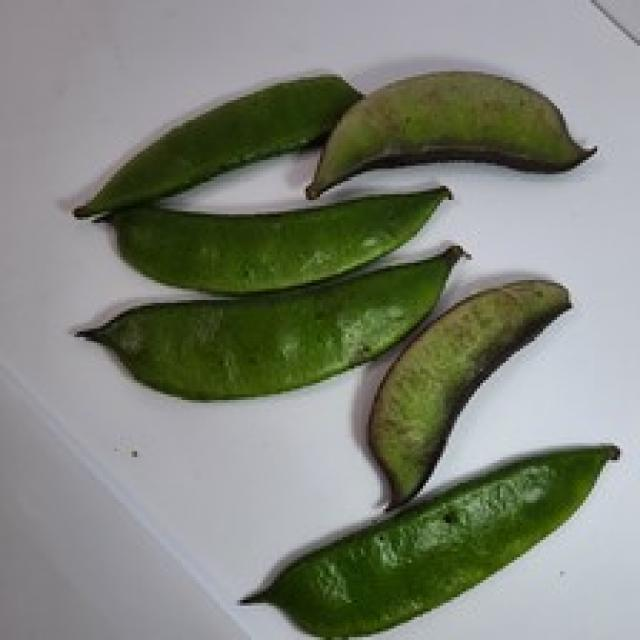Bean: (237, 440, 620, 637), (71, 243, 468, 400), (366, 277, 571, 509), (71, 69, 363, 220), (94, 183, 452, 294), (303, 66, 597, 200)
